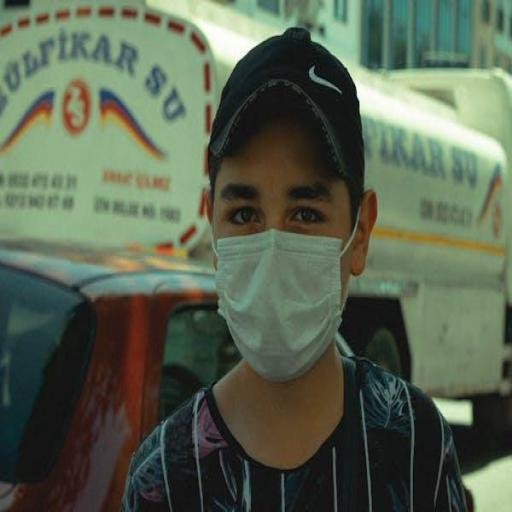mask: (208, 46, 370, 392)
